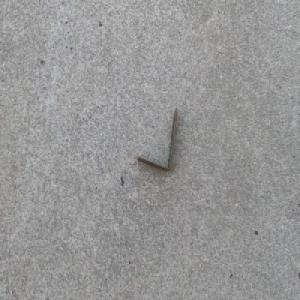MetalPart: (134, 105, 178, 174)
